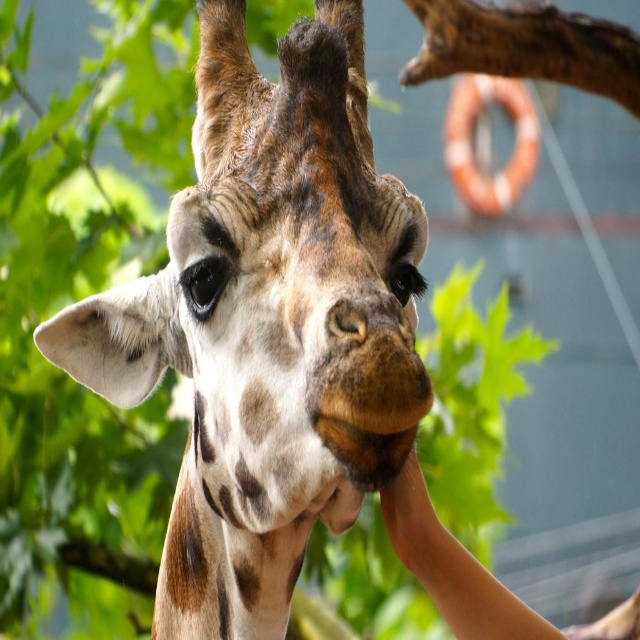Giraffe: (36, 0, 439, 639)
